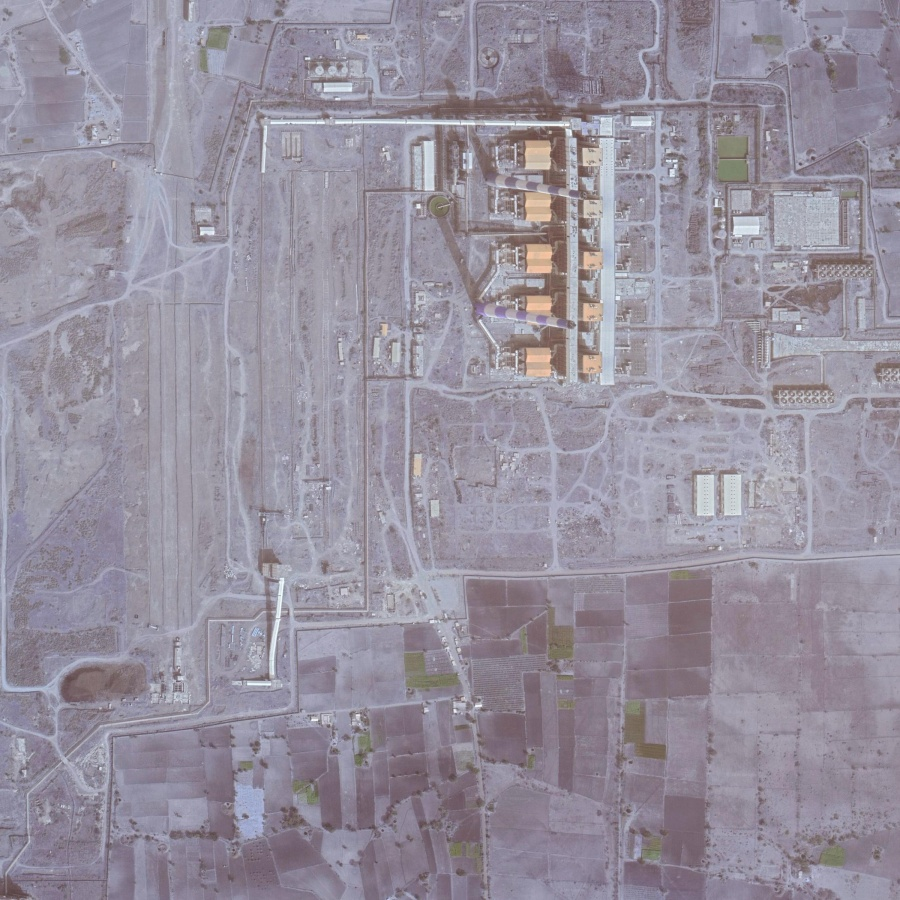PowerPlant: (246, 107, 875, 519)
